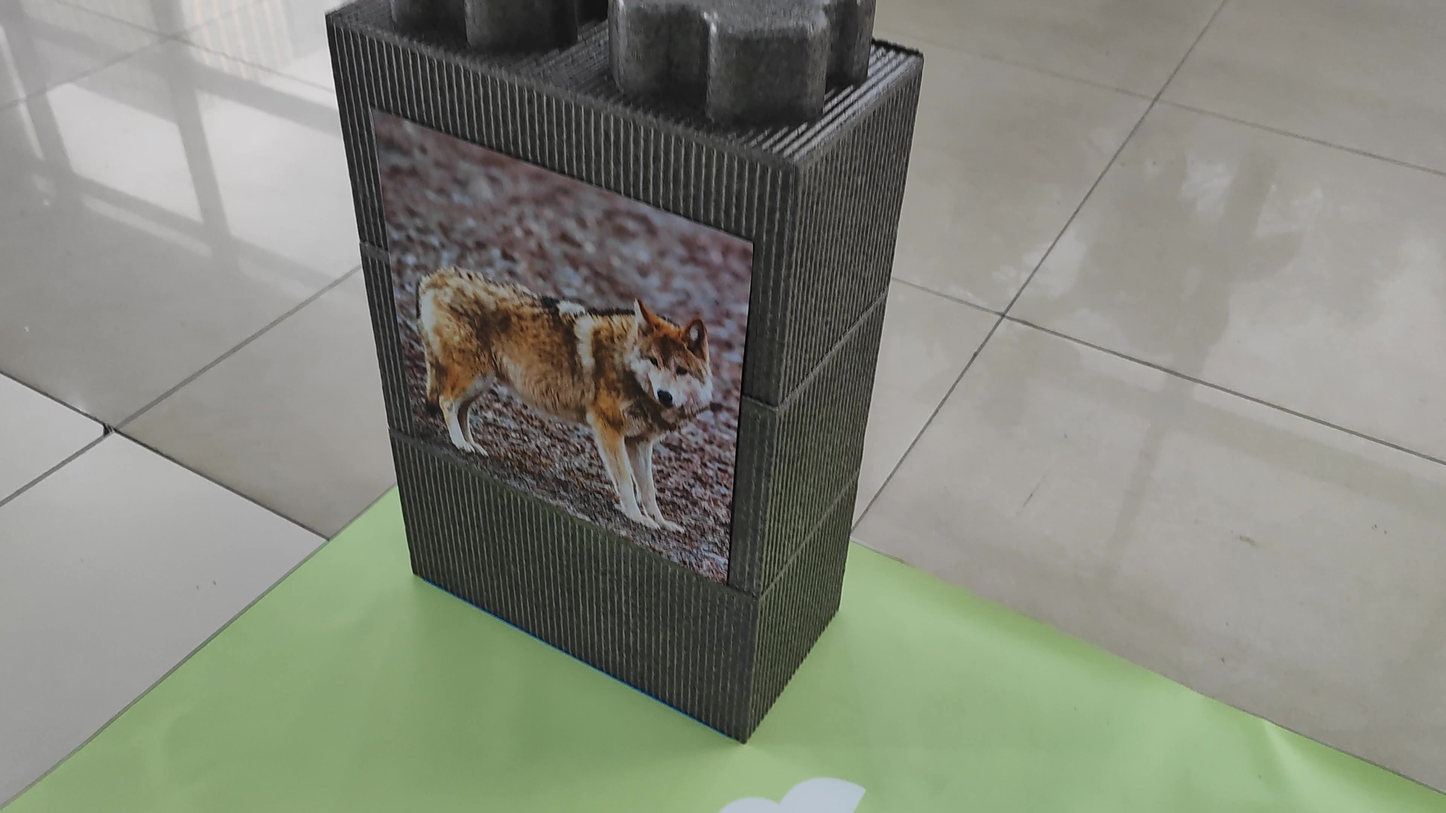wolf: (387, 215, 746, 553)
